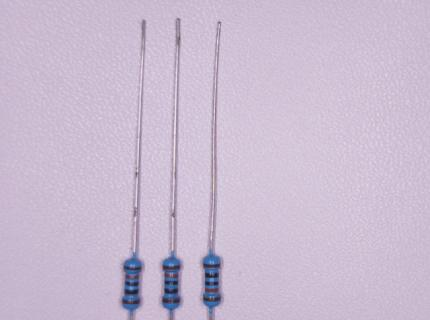Black band: (125, 289, 139, 294), (125, 281, 139, 286), (164, 288, 178, 293), (205, 272, 219, 277), (165, 280, 178, 285), (205, 281, 219, 285)
Brown band: (122, 298, 140, 304), (162, 297, 180, 303), (203, 263, 221, 268), (124, 265, 141, 270), (162, 265, 181, 269), (203, 297, 221, 301)
Orange band: (125, 274, 139, 279), (164, 273, 178, 278), (205, 288, 219, 292)
